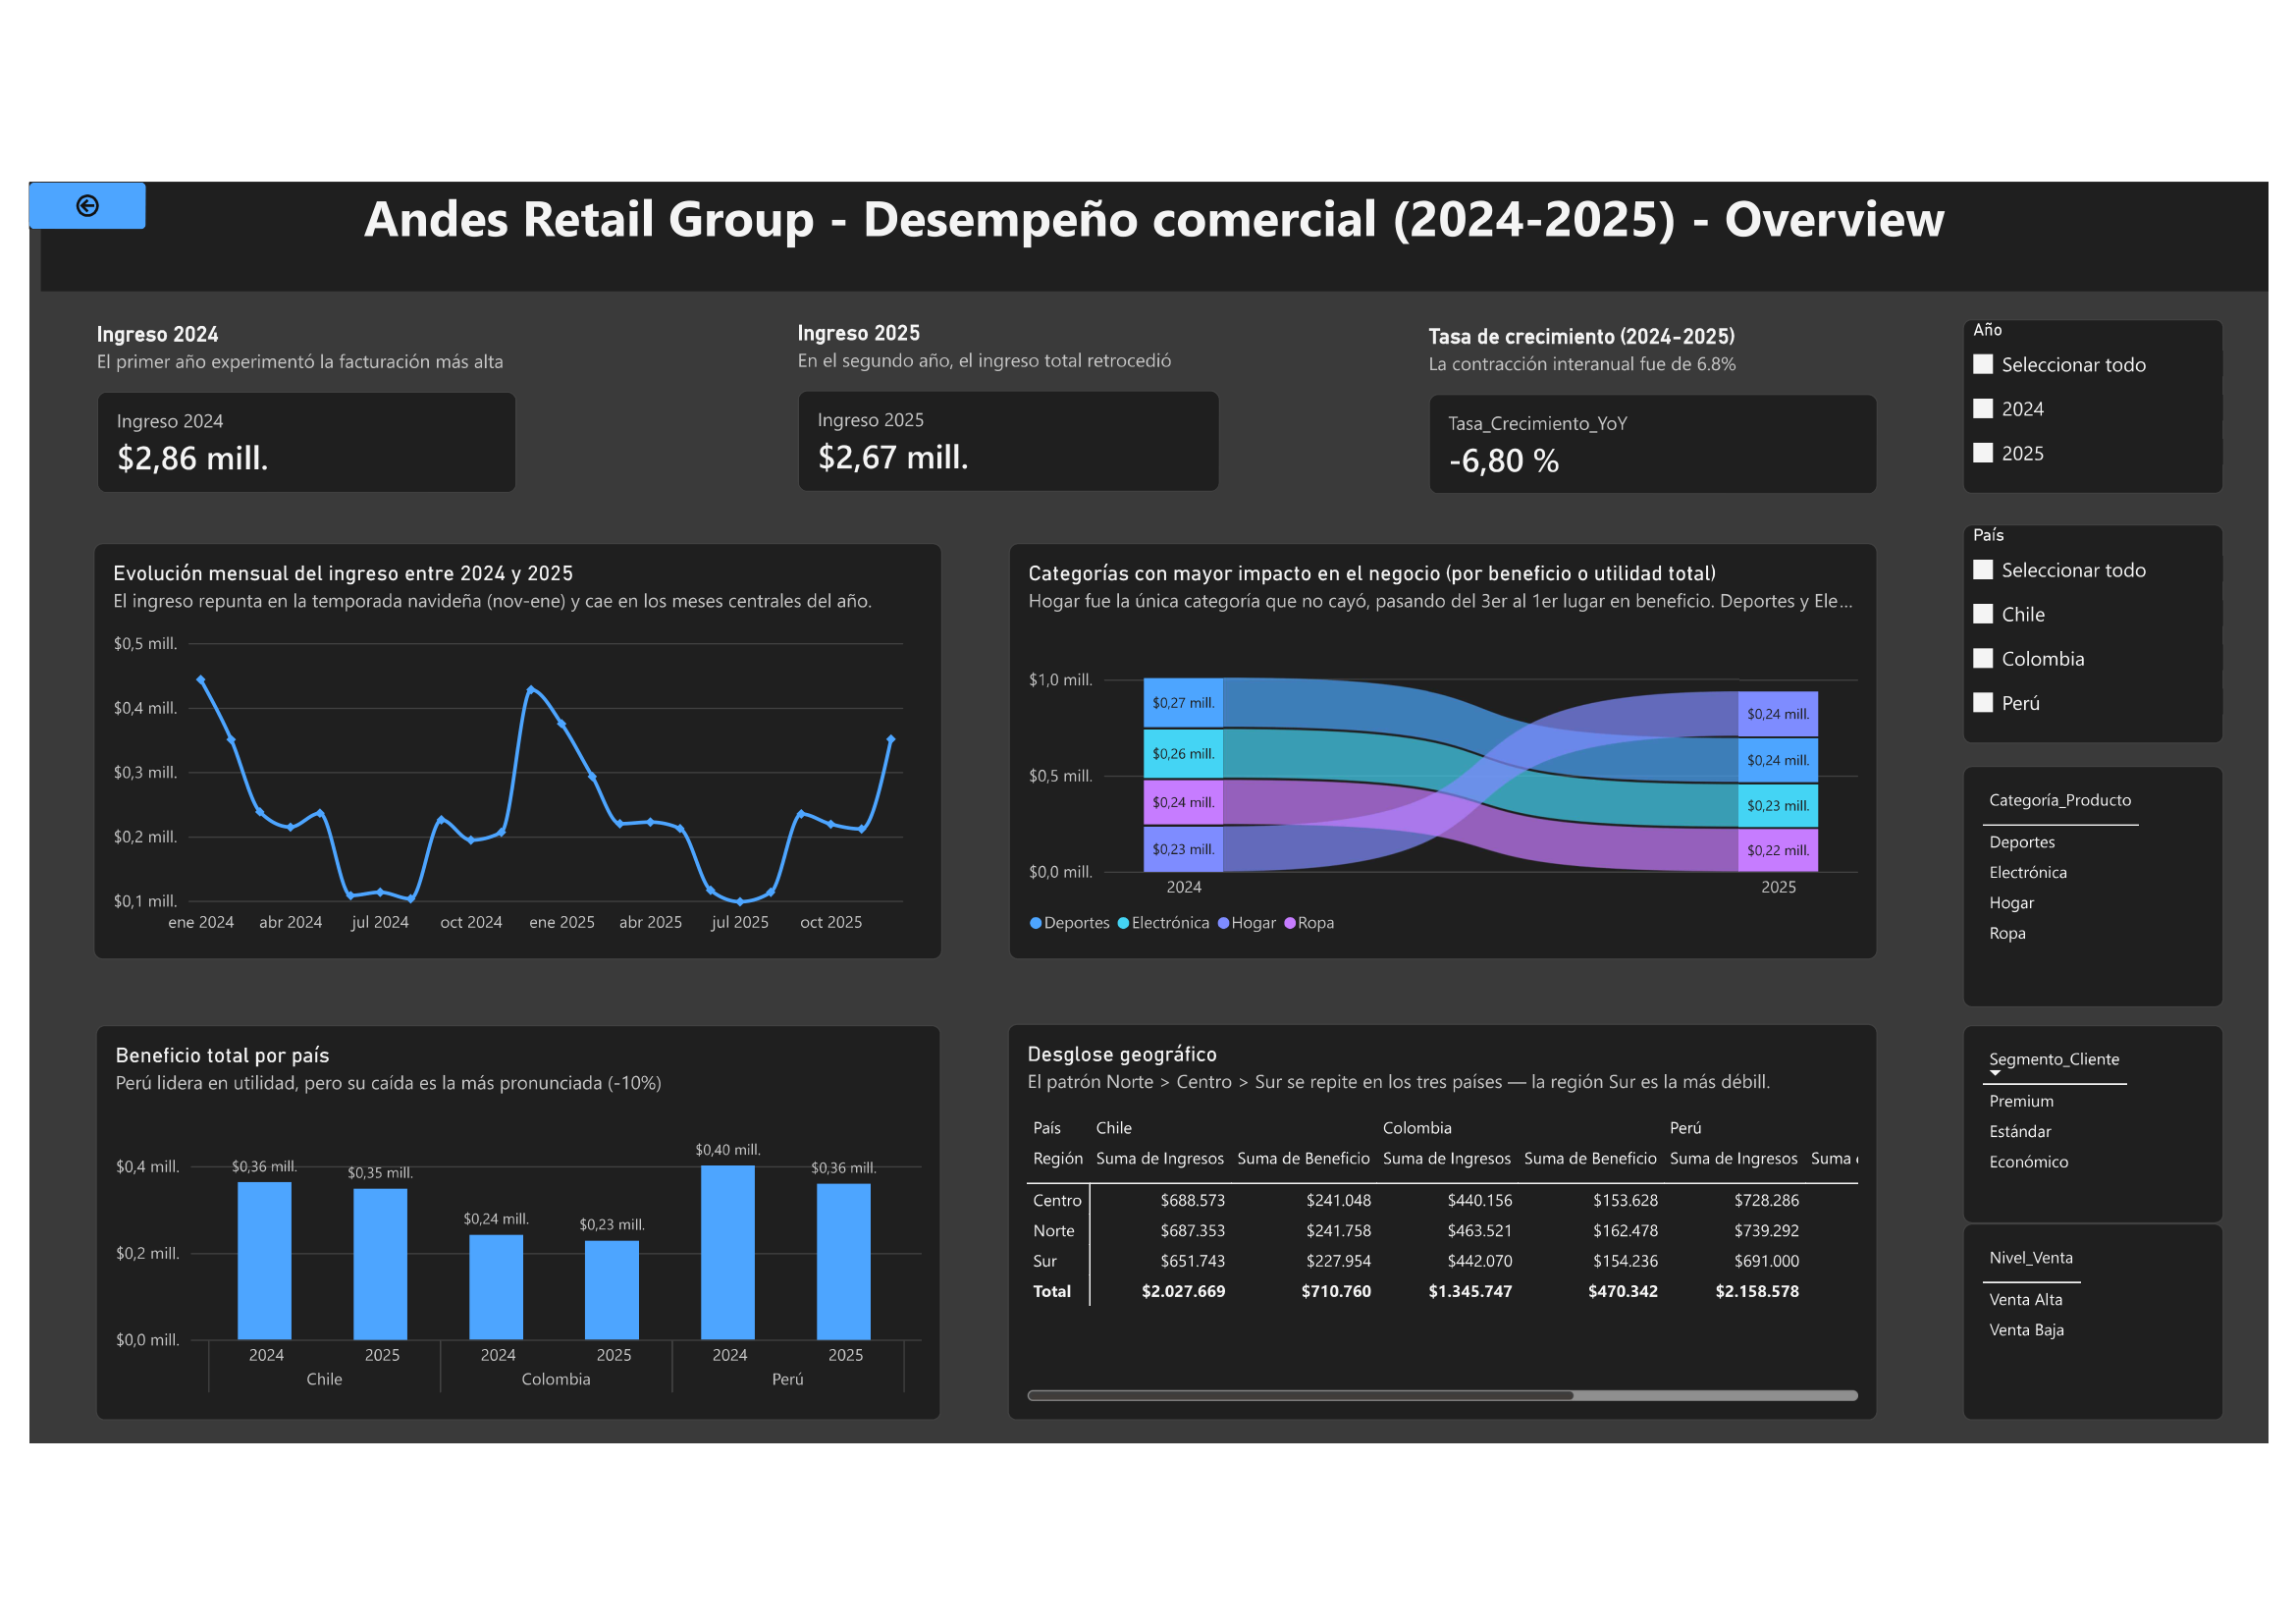

The dashboard page shown, as its layout file describes it:
{"tool":"powerbi","page":{"name":"Overview","canvas":[1920,1080],"ordinal":0},"visuals":[{"type":"textbox","box":[10.3,0,1910.1,92.6],"z":0},{"type":"cardVisual","title":"Tasa de crecimiento (2024-2025)","fields":{"Data":["Andes_Retail_Group_2024_2025 - Andes_Retail_Group_2024_2025.Tasa_Crecimiento_YoY"]},"box":[1199.8,121.2,385,146.7],"z":1000},{"type":"lineChart","title":"Evolución mensual del ingreso entre 2024 y 2025","fields":{"Category":["Andes_Retail_Group_2024_2025 - Andes_Retail_Group_2024_2025.Fecha_Pedido.Variation.Jerarquía de fechas.Año","Andes_Retail_Group_2024_2025 - Andes_Retail_Group_2024_2025.Fecha_Pedido.Variation.Jerarquía de fechas.Mes"],"Y":["Sum(Andes_Retail_Group_2024_2025 - Andes_Retail_Group_2024_2025.Ingresos)"]},"box":[55,308.8,727.5,357.5],"z":2000},{"type":"pivotTable","title":"Desglose geográfico","fields":{"Columns":["Andes_Retail_Group_2024_2025 - Andes_Retail_Group_2024_2025.País"],"Rows":["Andes_Retail_Group_2024_2025 - Andes_Retail_Group_2024_2025.Región"],"Values":["Sum(Andes_Retail_Group_2024_2025 - Andes_Retail_Group_2024_2025.Ingresos)","Sum(Andes_Retail_Group_2024_2025 - Andes_Retail_Group_2024_2025. Beneficio)"]},"box":[838.8,721.2,746.2,340],"z":3000},{"type":"clusteredColumnChart","title":"Beneficio total por país","fields":{"Category":["Andes_Retail_Group_2024_2025 - Andes_Retail_Group_2024_2025.País","Andes_Retail_Group_2024_2025 - Andes_Retail_Group_2024_2025.Fecha_Pedido.Variation.Jerarquía de fechas.Año"],"Y":["Sum(Andes_Retail_Group_2024_2025 - Andes_Retail_Group_2024_2025. Beneficio)"]},"box":[56.6,721.7,725.7,339.6],"z":4000},{"type":"slicer","fields":{"Values":["Andes_Retail_Group_2024_2025 - Andes_Retail_Group_2024_2025.Fecha_Pedido.Variation.Jerarquía de fechas.Año"]},"box":[1657.6,117.2,224.4,149.6],"z":5000},{"type":"slicer","fields":{"Values":["Andes_Retail_Group_2024_2025 - Andes_Retail_Group_2024_2025.País"]},"box":[1657.6,293.2,224.4,188.2],"z":6000},{"type":"cardVisual","title":"Ingreso 2024","fields":{"Data":["Andes_Retail_Group_2024_2025 - Andes_Retail_Group_2024_2025.Ingreso 2024"]},"box":[58,118.7,360,148],"z":7000},{"type":"cardVisual","title":"Ingreso 2025","fields":{"Data":["Andes_Retail_Group_2024_2025 - Andes_Retail_Group_2024_2025.Ingreso 2025"]},"box":[658.7,117.6,362,148],"z":8000},{"type":"actionButton","box":[0,0,100,40],"z":9000},{"type":"tableEx","fields":{"Values":["Andes_Retail_Group_2024_2025 - Andes_Retail_Group_2024_2025.Categoría_Producto"]},"box":[1658,500,224.4,206.8],"z":10000},{"type":"tableEx","fields":{"Values":["Andes_Retail_Group_2024_2025 - Andes_Retail_Group_2024_2025.Segmento_Cliente"]},"box":[1658,722,224,170],"z":11000},{"type":"tableEx","fields":{"Values":["Andes_Retail_Group_2024_2025 - Andes_Retail_Group_2024_2025.Nivel_Venta"]},"box":[1658,892,224,169.3],"z":12000},{"type":"ribbonChart","title":"Categorías con mayor impacto en el negocio (por beneficio o utilidad total)","fields":{"Category":["Andes_Retail_Group_2024_2025 - Andes_Retail_Group_2024_2025.Fecha_Pedido.Variation.Jerarquía de fechas.Año"],"Series":["Andes_Retail_Group_2024_2025 - Andes_Retail_Group_2024_2025.Categoría_Producto"],"Y":["Sum(Andes_Retail_Group_2024_2025 - Andes_Retail_Group_2024_2025. Beneficio)"]},"box":[840,308.8,745,357.5],"z":13001}]}

Visuals, with their boxes on the page's 1920x1080 design canvas (x1, y1, x2, y2). These are canvas units, not pixel positions in the 2296x1624 screenshot, which may show the page scaled, cropped or inside an application window:
textbox: (10, 0, 1920, 93)
"Tasa de crecimiento (2024-2025)" cardVisual: (1200, 121, 1585, 268)
"Evolución mensual del ingreso entre 2024 y 2025" lineChart: (55, 309, 782, 666)
"Desglose geográfico" pivotTable: (839, 721, 1585, 1061)
"Beneficio total por país" clusteredColumnChart: (57, 722, 782, 1061)
slicer - Andes_Retail_Group_2024_2025 - Andes_Retail_Group_2024_2025.Fecha_Pedido.Variation.Jerarquía de fechas.Año: (1658, 117, 1882, 267)
slicer - Andes_Retail_Group_2024_2025 - Andes_Retail_Group_2024_2025.País: (1658, 293, 1882, 481)
"Ingreso 2024" cardVisual: (58, 119, 418, 267)
"Ingreso 2025" cardVisual: (659, 118, 1021, 266)
actionButton: (0, 0, 100, 40)
tableEx - Andes_Retail_Group_2024_2025 - Andes_Retail_Group_2024_2025.Categoría_Producto: (1658, 500, 1882, 707)
tableEx - Andes_Retail_Group_2024_2025 - Andes_Retail_Group_2024_2025.Segmento_Cliente: (1658, 722, 1882, 892)
tableEx - Andes_Retail_Group_2024_2025 - Andes_Retail_Group_2024_2025.Nivel_Venta: (1658, 892, 1882, 1061)
"Categorías con mayor impacto en el negocio (por beneficio o utilidad total)" ribbonChart: (840, 309, 1585, 666)
